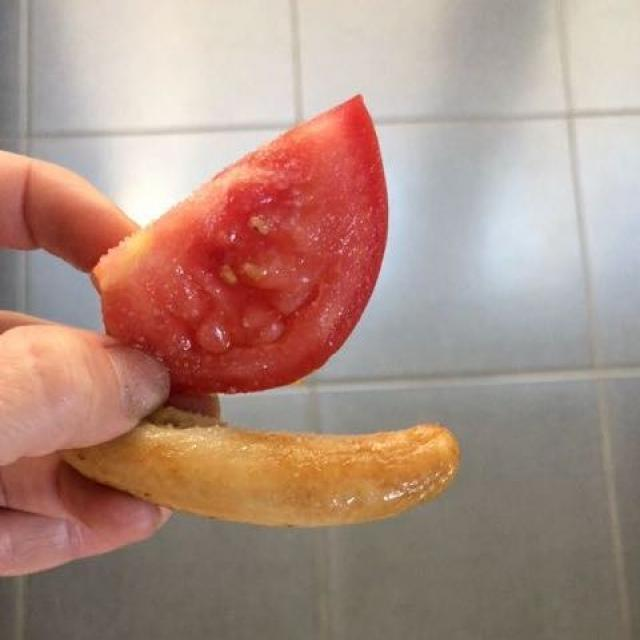sausage: (50, 416, 455, 533)
tomato: (84, 99, 420, 384)
